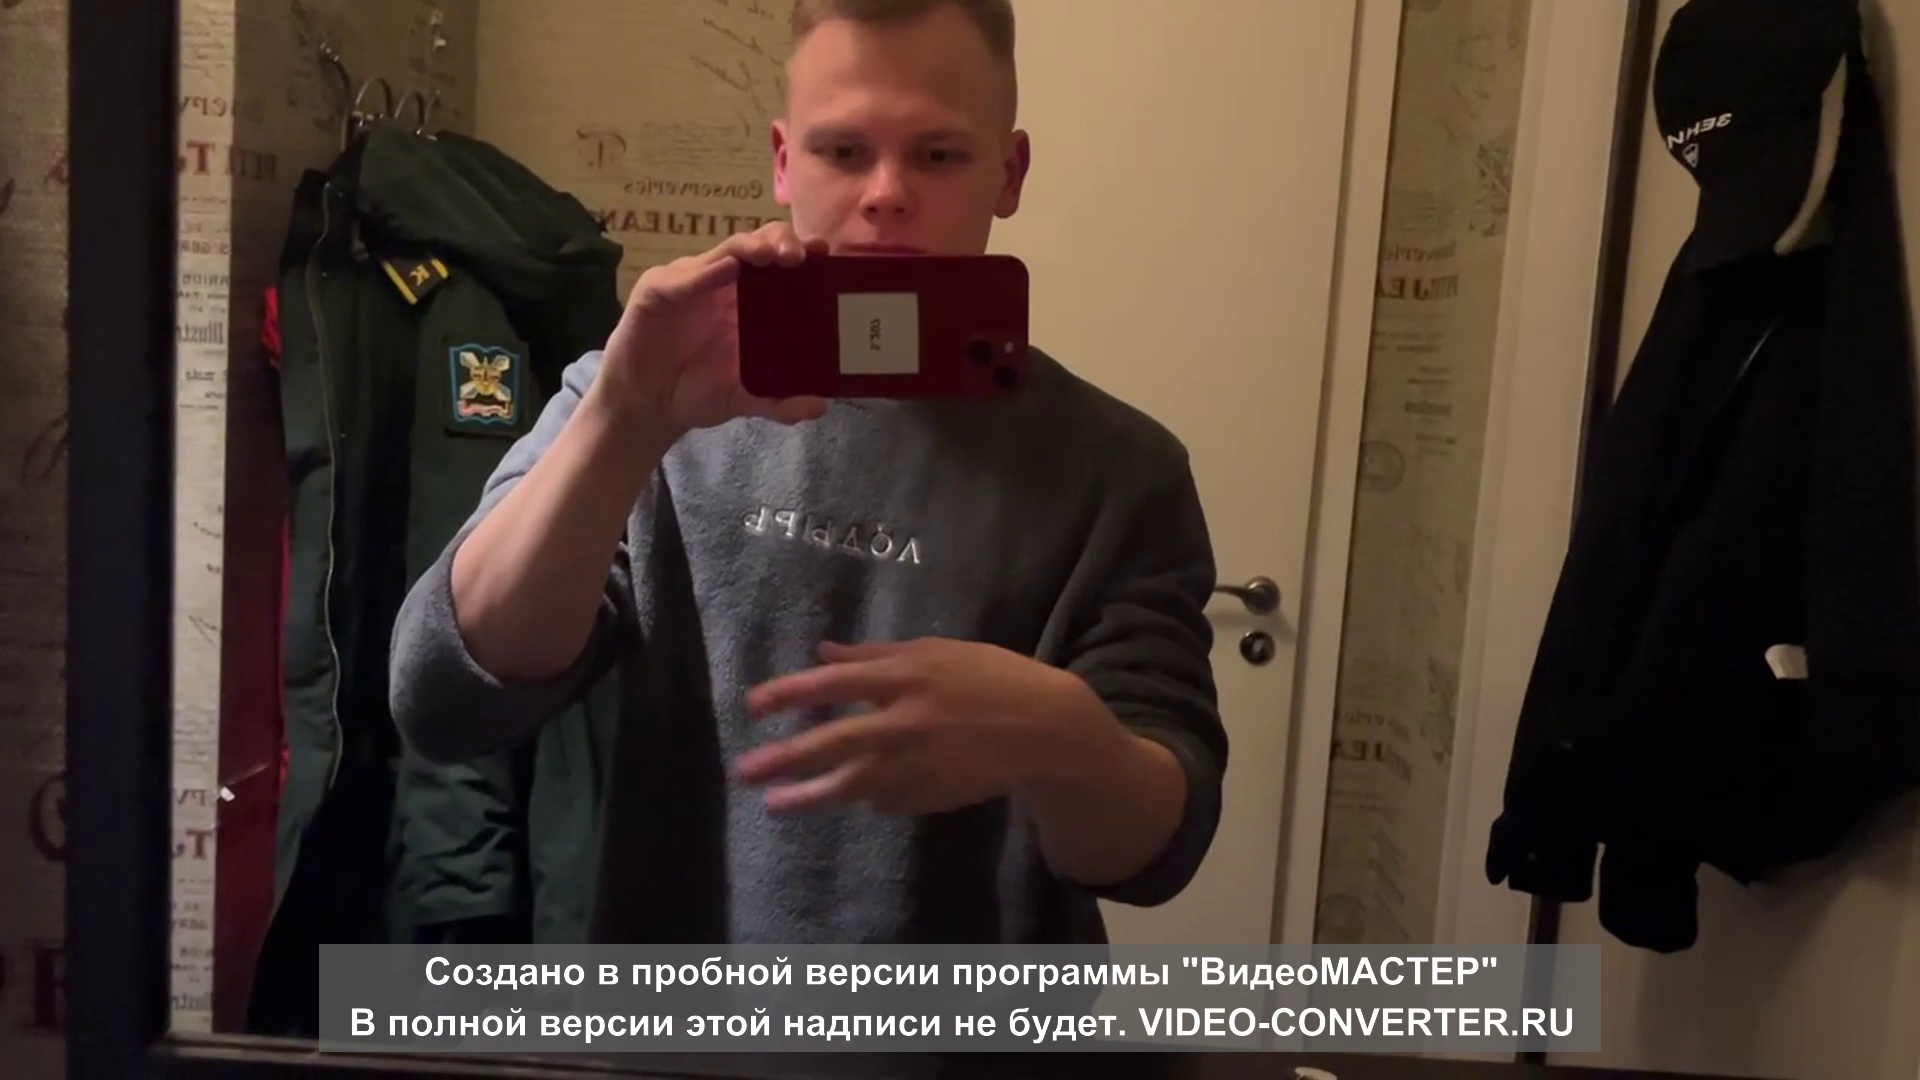Кисть: (732, 633, 1042, 824)
